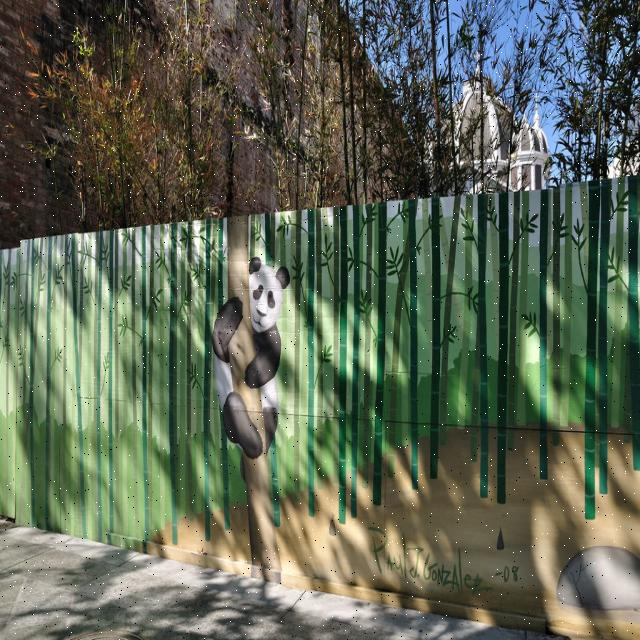panda: (211, 255, 289, 482)
